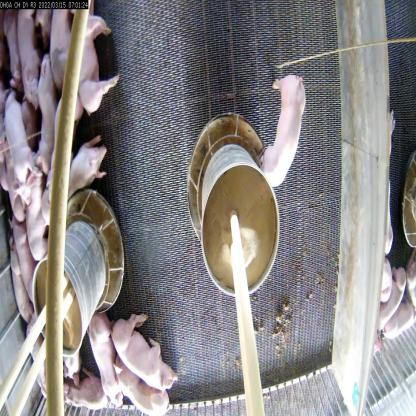Pig: (259, 67, 314, 201), (112, 302, 183, 399), (67, 6, 119, 128), (56, 122, 113, 206), (4, 87, 41, 212), (86, 317, 130, 415), (109, 353, 175, 415), (21, 161, 58, 267), (34, 58, 66, 179), (12, 8, 44, 116), (7, 219, 41, 311), (59, 363, 116, 414), (380, 261, 408, 344), (378, 297, 416, 352), (49, 4, 71, 94)
